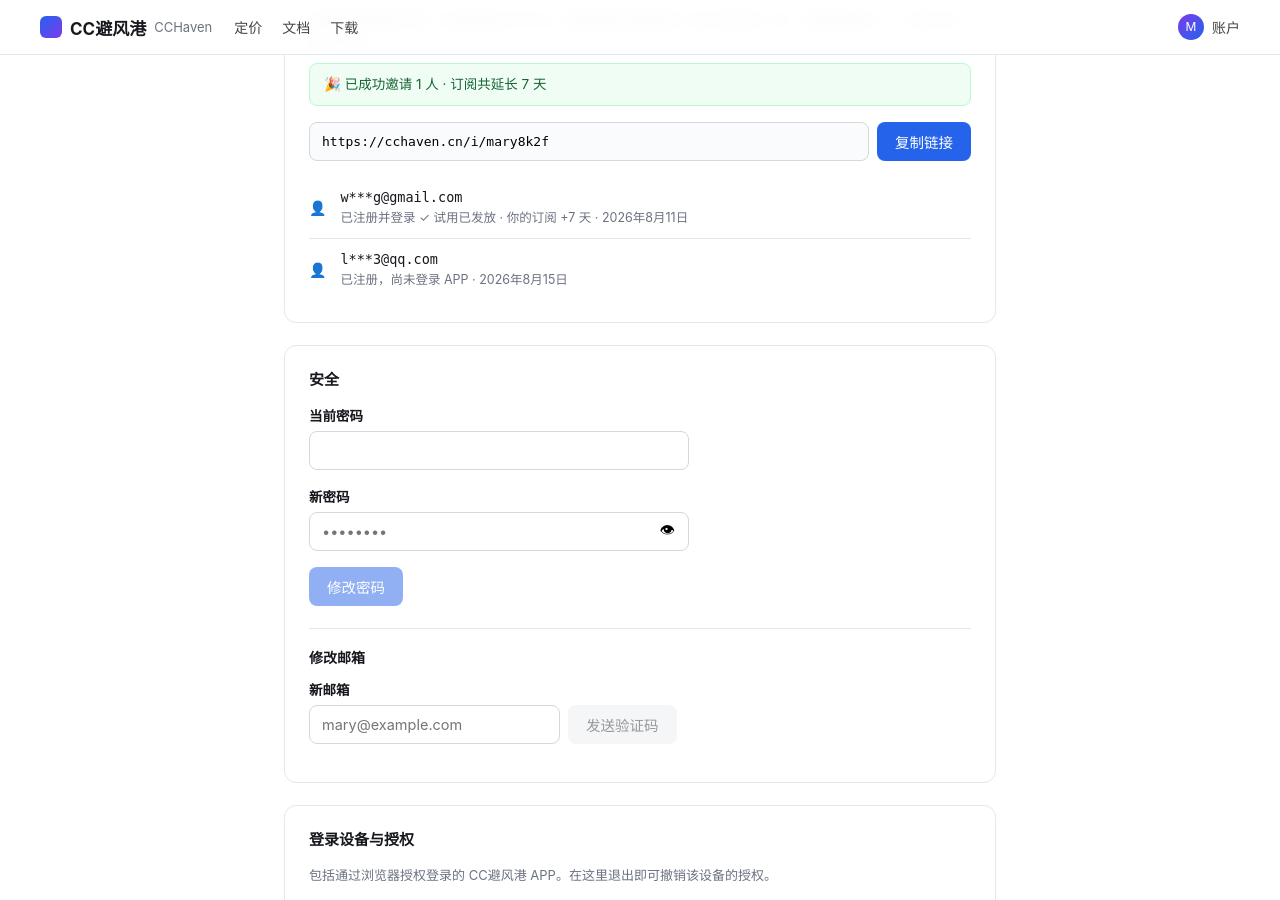
Test: 账户中心 /account › 已登录 › 安全 › 修改密码成功后提示其他设备已退出
(page scrolled)
In the password field labelled "当前密码": [499, 450] box left=309, top=431, right=689, bottom=470, type "Password123"
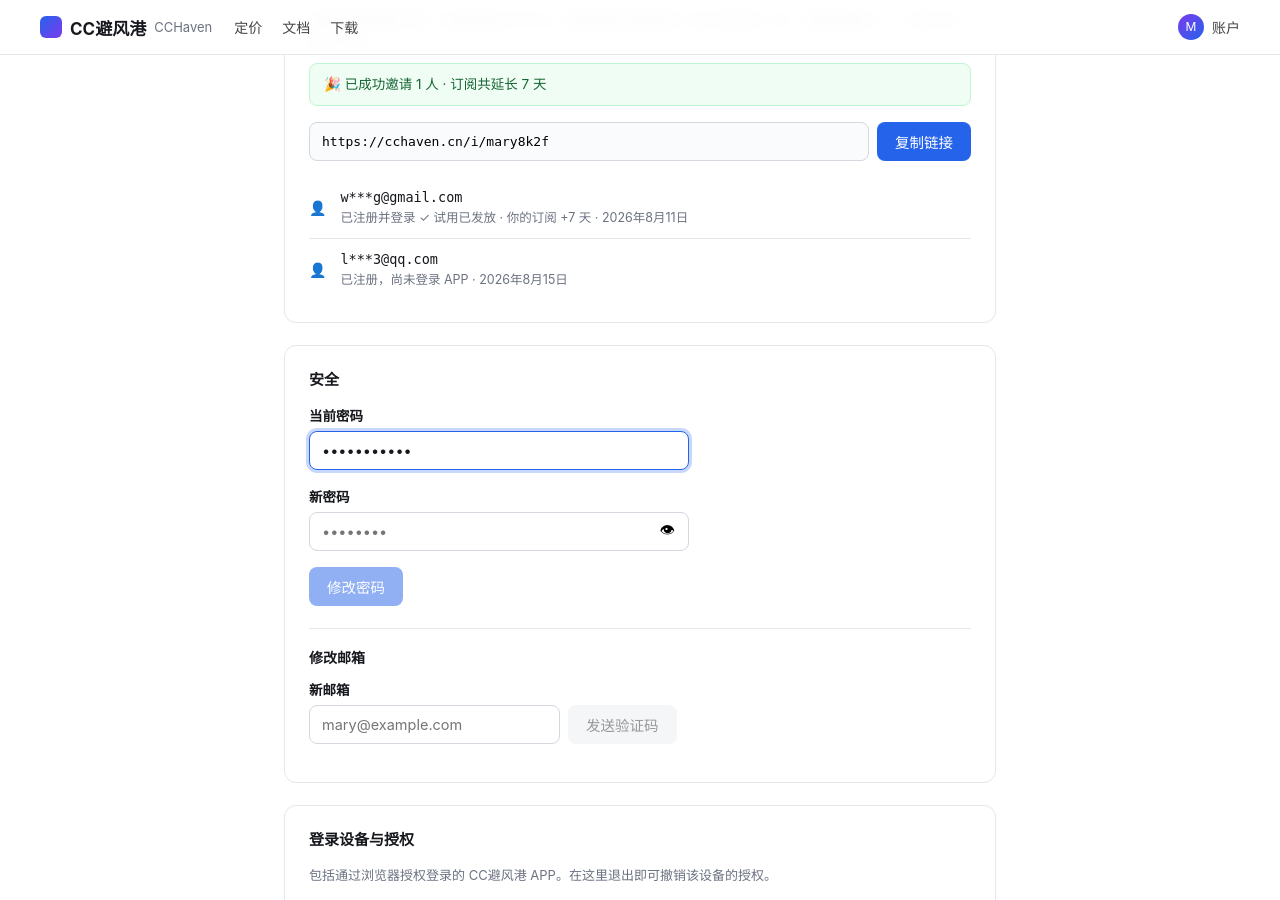
In the password field labelled "新密码": [499, 531] box left=309, top=512, right=689, bottom=551, type "Password456"
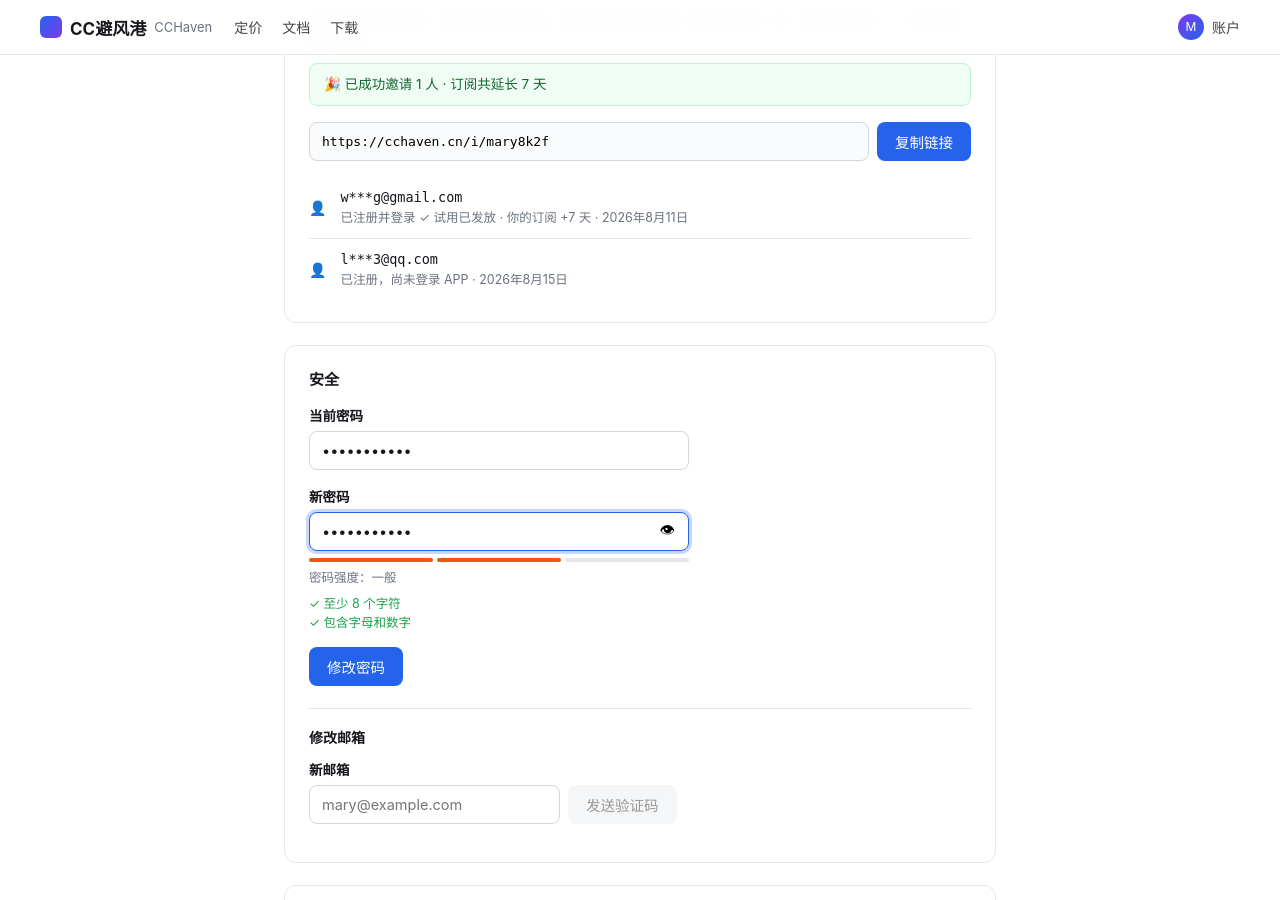
Click the button "修改密码": [356, 666] box left=309, top=647, right=403, bottom=686
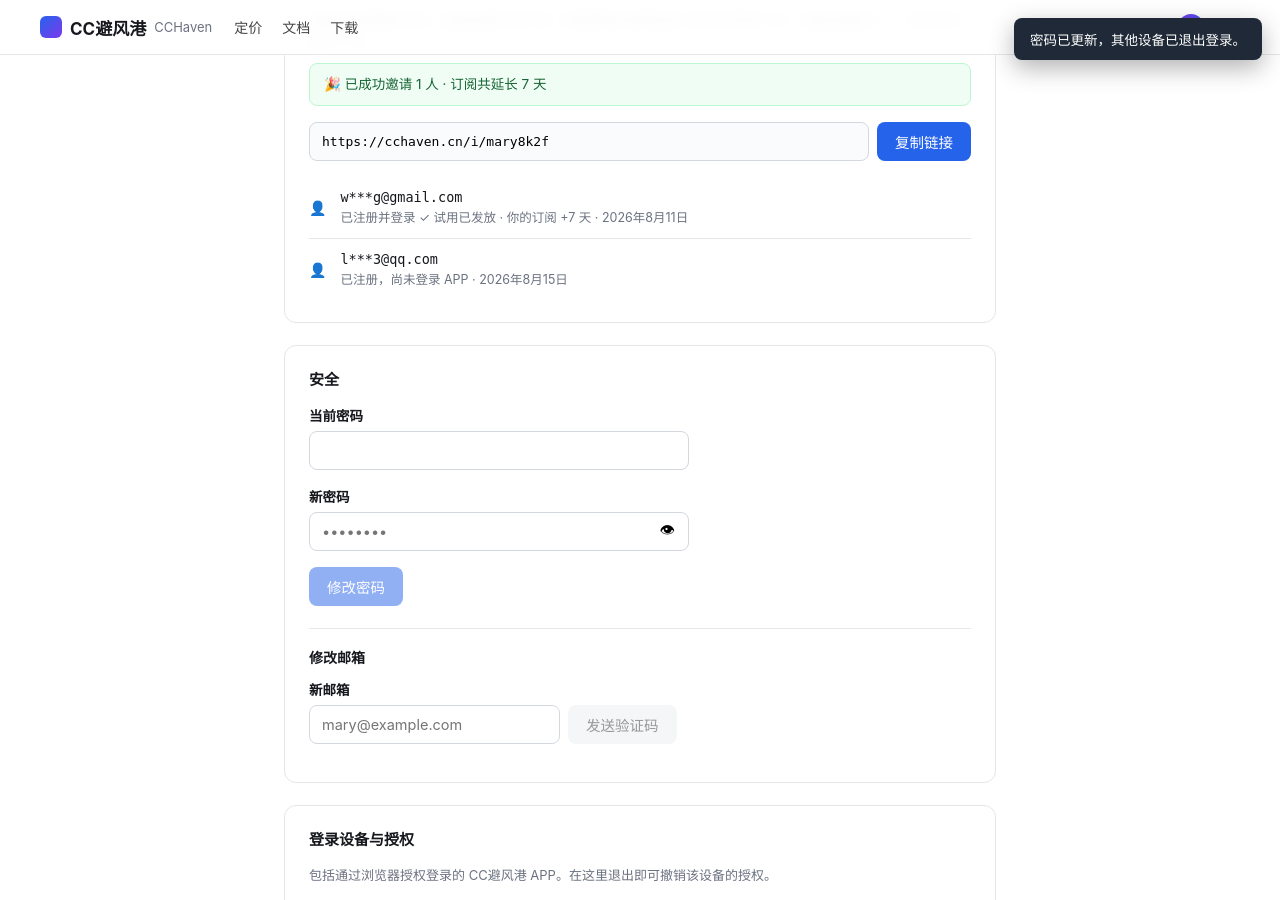
Check: the text "密码已更新，其他设备已退出登录。" is shown, box left=1030, top=29, right=1246, bottom=49
